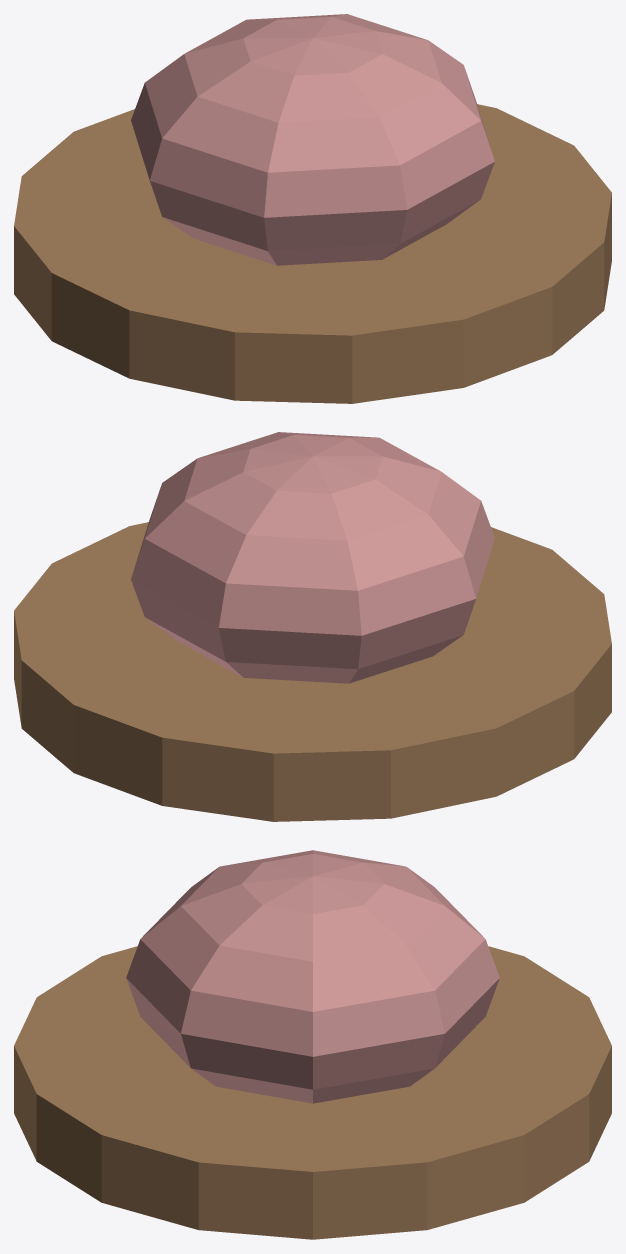
The model's file is seedstage_cherry.glb.
3 renders of one model, top to bottom at view 1: azimuth 30°, elevation 25°; view 2: azimuth 150°, elevation 25°; view 3: azimuth 270°, elevation 25°, orthographic.
Parts seen in each view (by area): view 1: CherrySeed_soil, CherrySeed; view 2: CherrySeed_soil, CherrySeed; view 3: CherrySeed_soil, CherrySeed.
Part boxes in pixels (left/top/right/bottom): CherrySeed_soil: left=14, top=104, right=611, bottom=403; CherrySeed: left=131, top=14, right=494, bottom=265; CherrySeed_soil: left=14, top=522, right=611, bottom=821; CherrySeed: left=131, top=432, right=494, bottom=683; CherrySeed_soil: left=14, top=946, right=611, bottom=1239; CherrySeed: left=126, top=850, right=499, bottom=1103.
Bounding box in the file's own units: 0.16 × 0.07 × 0.16.
